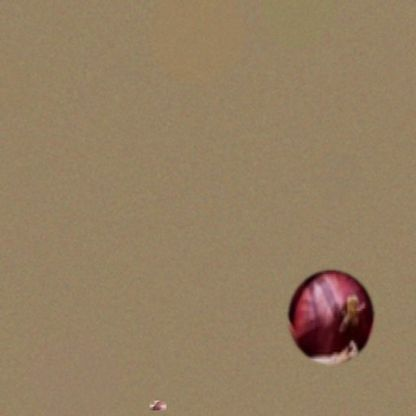healthy: (285, 267, 376, 366)
sprouted: (150, 401, 167, 410)
